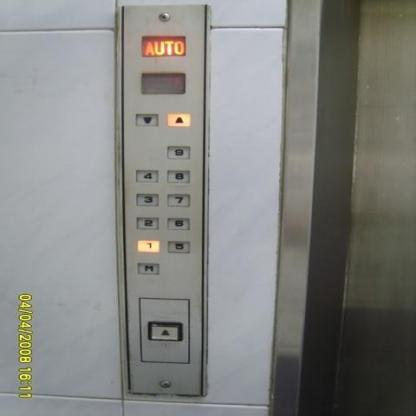1: (135, 237, 161, 253)
2: (134, 215, 160, 230)
3: (134, 191, 160, 207)
4: (134, 168, 160, 183)
5: (164, 238, 190, 253)
6: (164, 215, 190, 231)
7: (164, 192, 190, 207)
8: (164, 168, 190, 183)
9: (164, 144, 190, 160)
M: (134, 260, 160, 276)
down: (134, 112, 160, 127)
led: (139, 70, 186, 94), (139, 34, 186, 57)
up: (146, 319, 184, 341), (164, 112, 192, 127)
